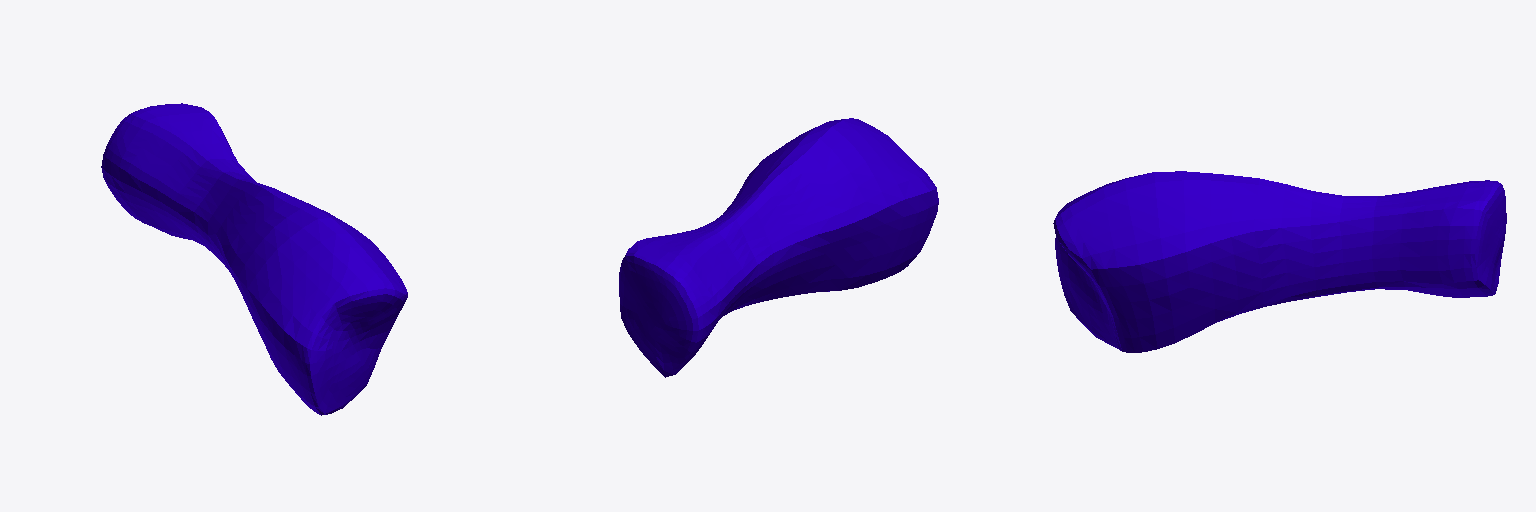
Rendered from R_L_Leg.obj.
3 renders of one model, left to right at view 1: azimuth 30°, elevation 25°; view 2: azimuth 150°, elevation 25°; view 3: azimuth 270°, elevation 25°, orthographic.
Parts seen in each view (by area): view 1: R_L_Leg_Alpha_Surface.004; view 2: R_L_Leg_Alpha_Surface.004; view 3: R_L_Leg_Alpha_Surface.004.
Part boxes in pixels (bbox=[...]): R_L_Leg_Alpha_Surface.004: bbox=[101, 103, 407, 415]; R_L_Leg_Alpha_Surface.004: bbox=[619, 118, 938, 377]; R_L_Leg_Alpha_Surface.004: bbox=[1053, 171, 1506, 352].
Size of the model in its own units: 0.1444 by 0.1714 by 0.4212.